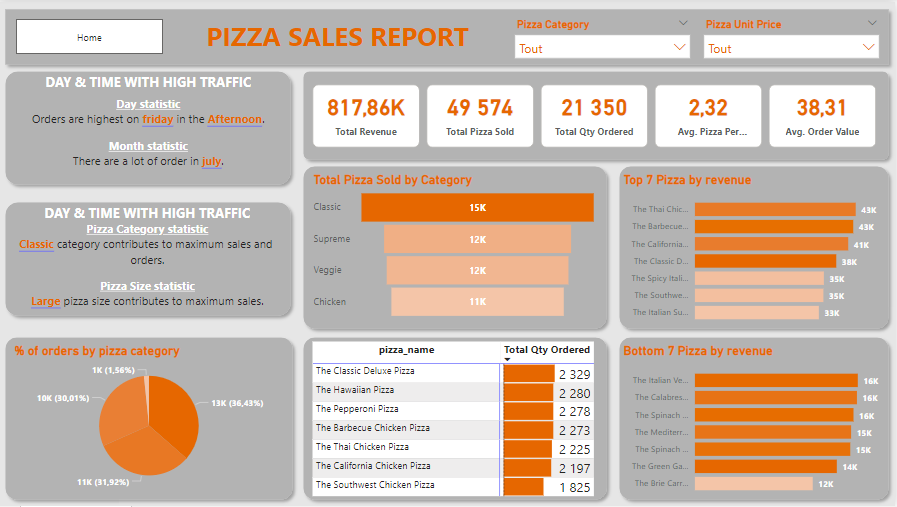

The page's visual inventory and layout, read from the dashboard file:
{"tool":"powerbi","page":{"name":"Performance","canvas":[1280,720],"ordinal":1},"visuals":[{"type":"group","id":"g1","title":"Groupe 1","box":[0,90.4,425.7,180],"z":0},{"type":"shape","box":[0,90.4,425.7,180],"z":0,"group":"g1"},{"type":"shape","box":[425.7,90.4,854.3,144.3],"z":0,"group":"g6"},{"type":"shape","box":[425.7,226.1,451.2,250],"z":0,"group":"g7"},{"type":"shape","box":[877.1,226.1,402.6,250],"z":0,"group":"g8"},{"type":"shape","box":[0,470,428.3,250],"z":0,"group":"g4"},{"type":"shape","box":[425.7,470,451.7,250],"z":0,"group":"g5"},{"type":"shape","box":[877.1,470,402.6,250],"z":0,"group":"g9"},{"type":"cardVisual","fields":{"Data":["All Measures.Total Revenue","All Measures.Total Pizza Sold","All Measures.Total Qty Ordered","All Measures.Avg. Pizza Per Order","All Measures.Avg. Order Value"]},"box":[442.8,113.3,817.1,100],"z":1000,"group":"g6"},{"type":"funnel","title":"Total Pizza Sold by Category","fields":{"Category":["pizza_sales.pizza_category"],"Y":["All Measures.Total Pizza Sold"]},"box":[443.6,242.8,415.3,215],"z":1000,"group":"g7"},{"type":"clusteredBarChart","title":"Top 7 Pizza by revenue","fields":{"Category":["pizza_sales.pizza_name"],"Y":["All Measures.Total Revenue"]},"box":[886.9,243.2,377.1,225.7],"z":1000,"group":"g8"},{"type":"group","id":"g2","title":"Groupe 2","box":[0,277.6,425.7,180],"z":1000},{"type":"shape","box":[0,277.6,425.7,180],"z":1000,"group":"g2"},{"type":"pivotTable","title":"% of orders by pizza category","fields":{"Values":["All Measures.Total Qty Ordered"],"Rows":["pizza_sales.pizza_name"]},"box":[442.7,480,416.5,233.3],"z":1000,"group":"g5"},{"type":"pieChart","title":"% of orders by pizza category","fields":{"Y":["All Measures.Total Qty Ordered"],"Category":["pizza_sales.pizza_size"]},"box":[17,486.7,394.3,215],"z":1000,"group":"g4"},{"type":"clusteredBarChart","title":"Bottom 7 Pizza by revenue","fields":{"Category":["pizza_sales.pizza_name"],"Y":["All Measures.Total Revenue"]},"box":[886.9,487.1,377.1,225.7],"z":1000,"group":"g9"},{"type":"group","id":"g3","title":"Groupe 3","box":[0,0.8,1280,97],"z":2000,"group":"g10"},{"type":"textbox","box":[23.2,130.4,380.8,130],"z":2000,"group":"g1"},{"type":"group","id":"g4","title":"Groupe 1","box":[0,470,428.6,250],"z":2000},{"type":"textbox","box":[6.1,308.8,412.8,144.5],"z":3000,"group":"g2"},{"type":"group","id":"g5","title":"Groupe 1","box":[425.7,470,451.4,250],"z":3000},{"type":"shape","box":[0,0.8,1280,97],"z":4000,"group":"g3"},{"type":"group","id":"g6","title":"Groupe 4","box":[425.7,90.4,854.3,144.3],"z":4000},{"type":"textbox","box":[281.7,16,405,66.7],"z":5000,"group":"g3"},{"type":"group","id":"g7","title":"Groupe 1","box":[425.7,226.1,451.4,250],"z":5000},{"type":"slicer","fields":{"Values":["pizza_sales.pizza_category"]},"box":[726.7,16,270,66.7],"z":6000,"group":"g10"},{"type":"group","id":"g8","title":"Groupe 1","box":[877.1,226.1,402.6,250],"z":6000},{"type":"slicer","fields":{"Values":["pizza_sales.unit_price"]},"box":[996.7,16.7,270,66.7],"z":7000,"group":"g10"},{"type":"group","id":"g9","title":"Groupe 1","box":[877.1,470,402.9,250],"z":7000},{"type":"group","id":"g10","title":"Groupe 2","box":[0,0.8,1280,97],"z":8000},{"type":"textbox","box":[40.2,96.1,346.8,35.7],"z":8000,"group":"g1"},{"type":"pageNavigator","box":[24.3,24.3,210,50],"z":9000},{"type":"textbox","box":[39.2,283.3,346.8,36],"z":9000,"group":"g2"}]}

Visuals, with their boxes in screenshot pixels (x1, y1, x2, y2), scaled from the page's 1280x720 canvas onto the 897x507 screenshot:
"Groupe 1" group: 0 64 298 190
shape: 0 64 298 190
shape: 298 64 896 165
shape: 298 159 615 335
shape: 615 159 896 335
shape: 0 331 300 506
shape: 298 331 615 506
shape: 615 331 896 506
cardVisual - All Measures.Total Revenue x All Measures.Total Pizza Sold: 310 80 883 150
"Total Pizza Sold by Category" funnel: 311 171 602 322
"Top 7 Pizza by revenue" clusteredBarChart: 622 171 886 330
"Groupe 2" group: 0 195 298 322
shape: 0 195 298 322
"% of orders by pizza category" pivotTable: 310 338 602 502
"% of orders by pizza category" pieChart: 12 343 288 494
"Bottom 7 Pizza by revenue" clusteredBarChart: 622 343 886 502
"Groupe 3" group: 0 1 896 69
textbox: 16 92 283 183
"Groupe 1" group: 0 331 300 506
textbox: 4 217 294 319
"Groupe 1" group: 298 331 615 506
shape: 0 1 896 69
"Groupe 4" group: 298 64 896 165
textbox: 197 11 481 58
"Groupe 1" group: 298 159 615 335
slicer - pizza_sales.pizza_category: 509 11 698 58
"Groupe 1" group: 615 159 896 335
slicer - pizza_sales.unit_price: 698 12 888 59
"Groupe 1" group: 615 331 896 506
"Groupe 2" group: 0 1 896 69
textbox: 28 68 271 93
pageNavigator: 17 17 164 52
textbox: 27 199 271 225
